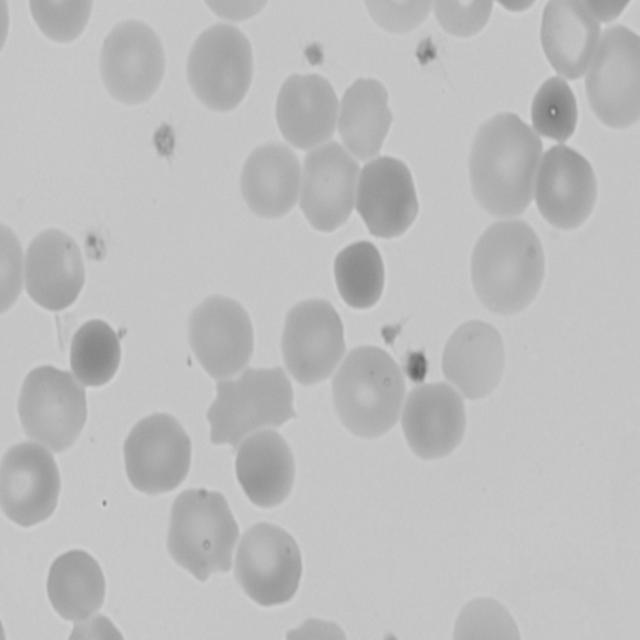Platelets: (406, 344, 432, 382)
RBC: (468, 102, 544, 218), (468, 215, 548, 320), (330, 344, 408, 446), (162, 484, 238, 586), (578, 18, 640, 134), (96, 13, 168, 112), (13, 364, 88, 458), (232, 520, 307, 612), (186, 23, 258, 118), (279, 292, 347, 390), (122, 410, 195, 498), (186, 294, 258, 382), (440, 316, 510, 406), (537, 0, 611, 84), (20, 226, 89, 316), (398, 378, 468, 466), (533, 144, 600, 233), (354, 156, 422, 242), (297, 140, 359, 234), (232, 430, 301, 514), (0, 441, 62, 533), (238, 144, 305, 228), (274, 70, 338, 153), (42, 551, 106, 628), (446, 590, 526, 640), (24, 0, 98, 50), (426, 0, 493, 43), (0, 222, 26, 314), (279, 618, 360, 640), (61, 617, 136, 640), (0, 0, 18, 70)
Spherocyte: (333, 238, 392, 316), (68, 318, 124, 395)
